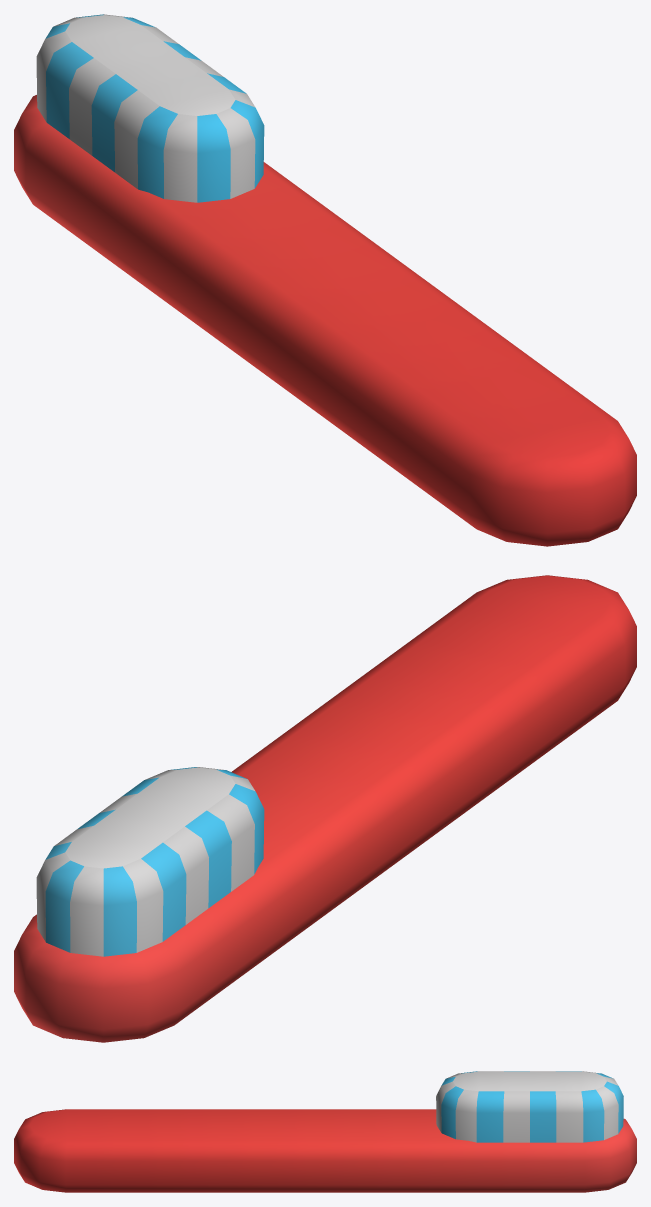
The model's file is Toothbrush_01.glb.
The picture shows the model from 3 angles, top to bottom: view 1: azimuth 30°, elevation 25°; view 2: azimuth 150°, elevation 25°; view 3: azimuth 270°, elevation 25°; orthographic projection. The views are drawn at different scales.
Visible parts, largest first — view 1: Toothbrush_01; view 2: Toothbrush_01; view 3: Toothbrush_01.
Boxes of the visible parts, left/top/right/bottom form: Toothbrush_01: left=14, top=14, right=636, bottom=546; Toothbrush_01: left=14, top=575, right=636, bottom=1042; Toothbrush_01: left=14, top=1071, right=636, bottom=1192.
Bounding box in the file's own units: 0.0305 × 0.0307 × 0.182.
Materials: 1 (1 with a texture image).
